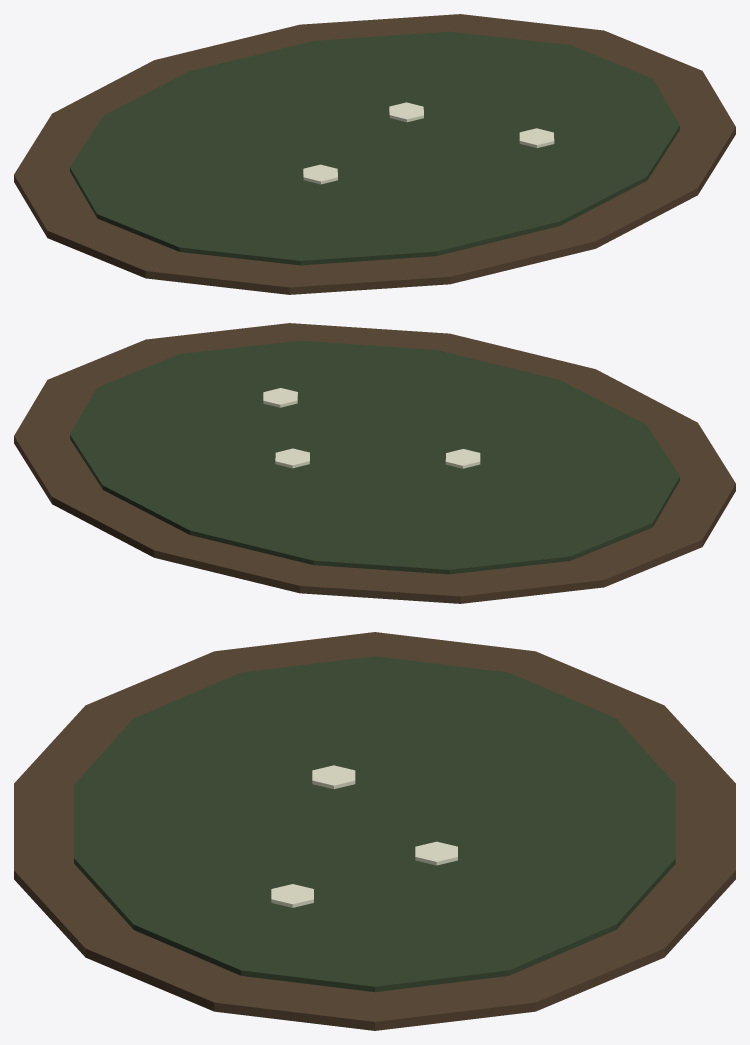
The model's file is env_r6_bog_pool.glb.
3 renders of one model, top to bottom at view 1: azimuth 30°, elevation 25°; view 2: azimuth 150°, elevation 25°; view 3: azimuth 270°, elevation 25°, orthographic. The views are drawn at different scales.
Parts seen in each view (by area): view 1: env_r6_bog_pool; view 2: env_r6_bog_pool; view 3: env_r6_bog_pool.
Part boxes in pixels (box(x1,y1,x2,y2)): env_r6_bog_pool: box(14, 14, 735, 294); env_r6_bog_pool: box(14, 323, 735, 603); env_r6_bog_pool: box(14, 632, 735, 1030).
Size of the model in its own units: 4.6 by 0.1 by 3.6.
Materials: 1 (1 with a texture image).
